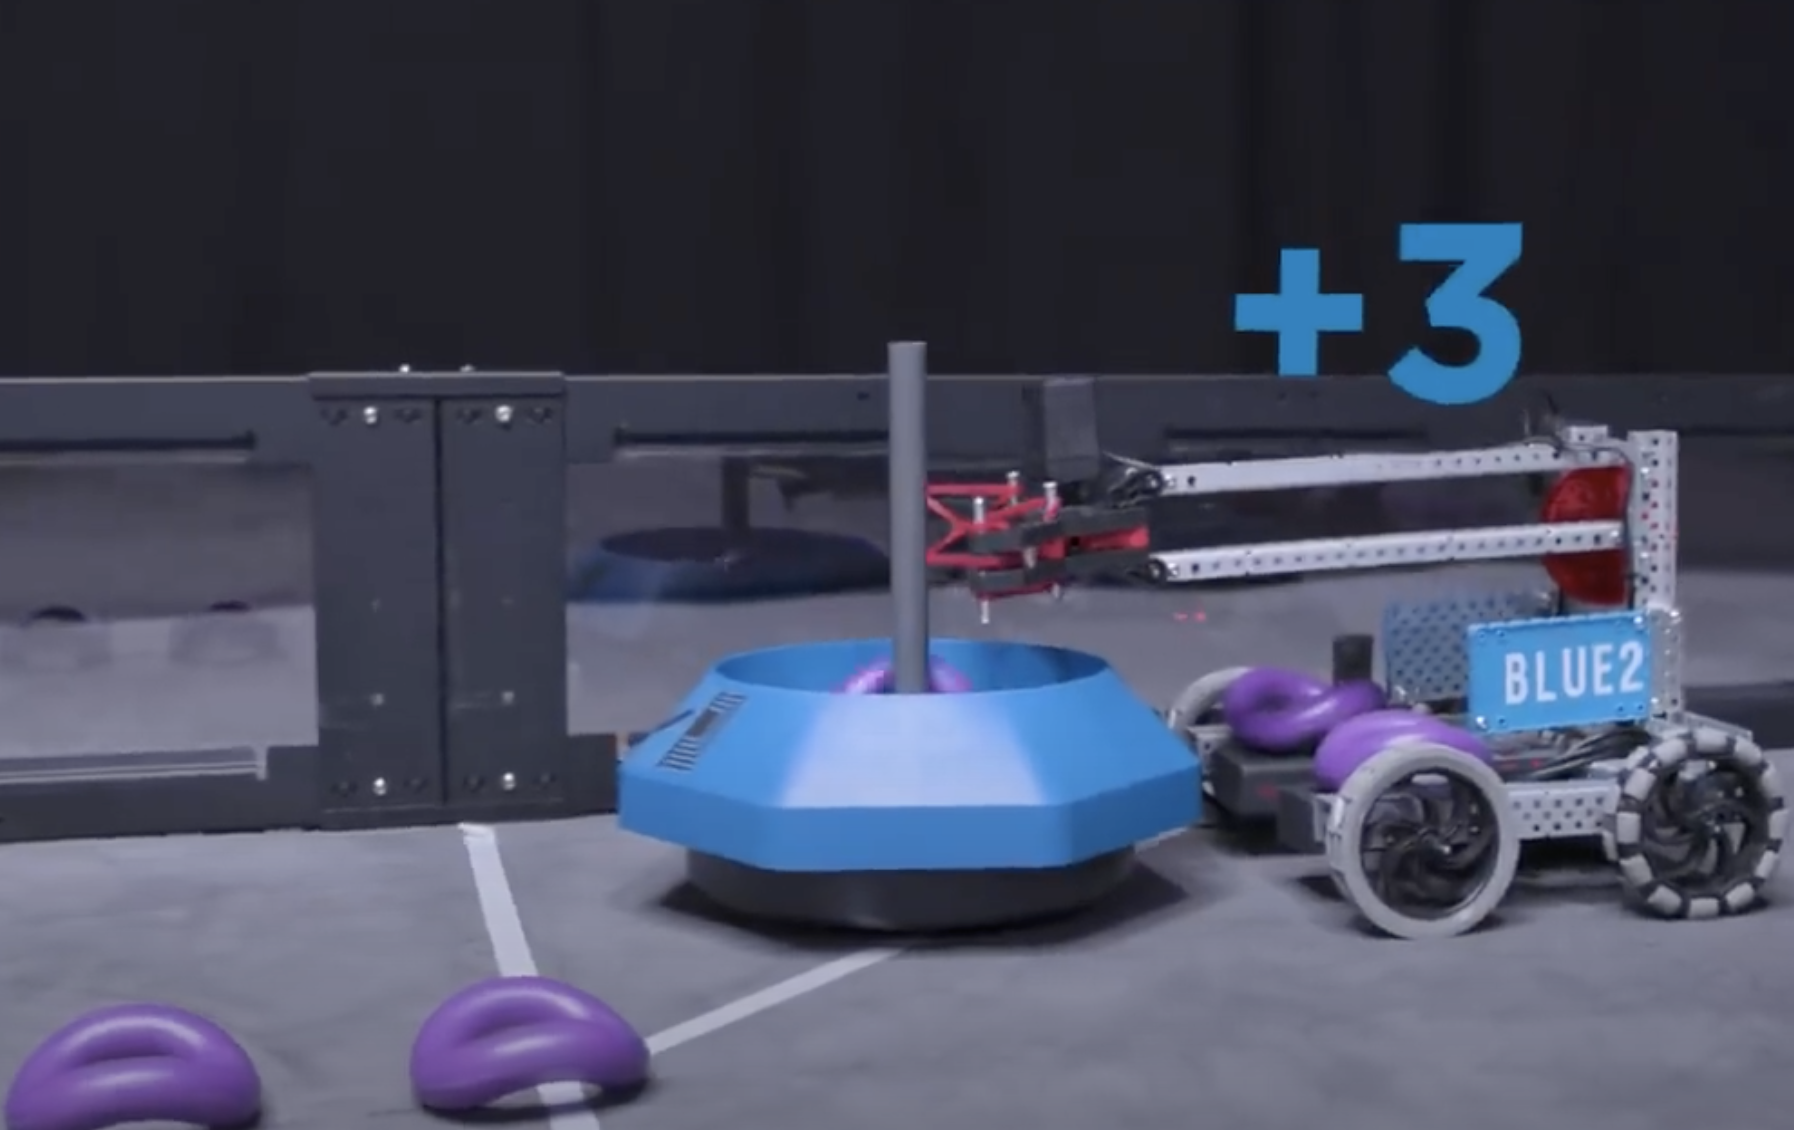ring: (407, 974, 654, 1114), (3, 1002, 262, 1130), (1312, 710, 1493, 793), (1222, 667, 1387, 746), (844, 659, 969, 695)
